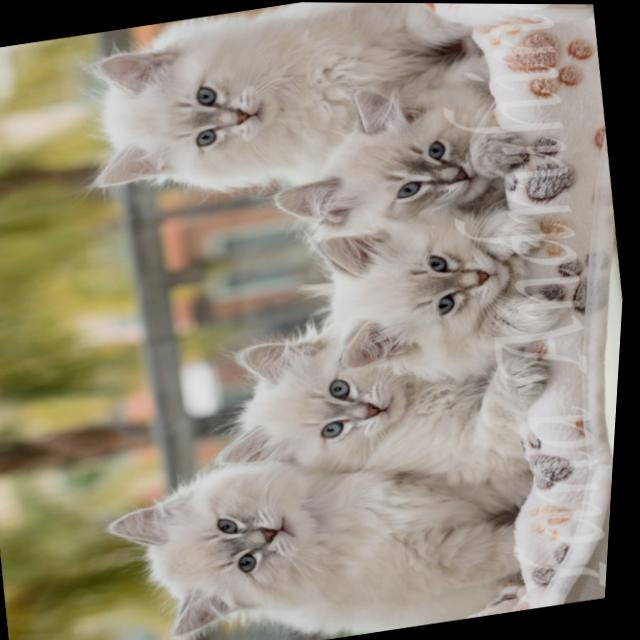Neva Masquerade: (94, 417, 576, 640), (64, 0, 500, 219), (200, 301, 568, 511), (255, 60, 548, 246), (311, 200, 568, 390)
